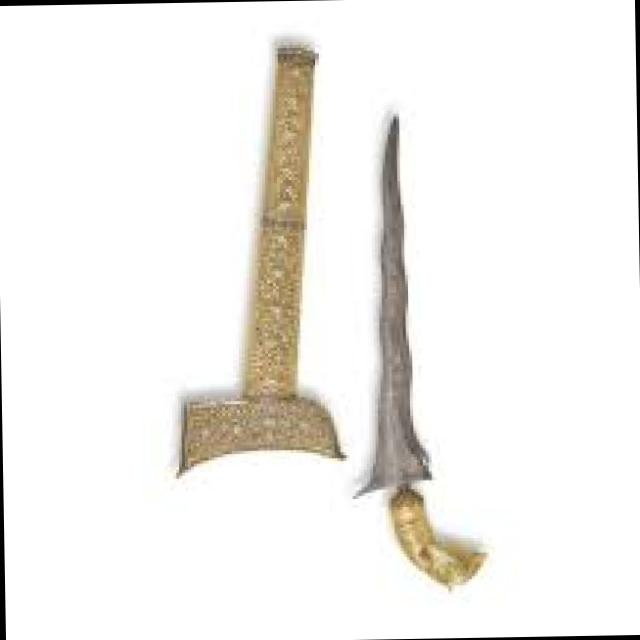Gun: (338, 109, 524, 596)
